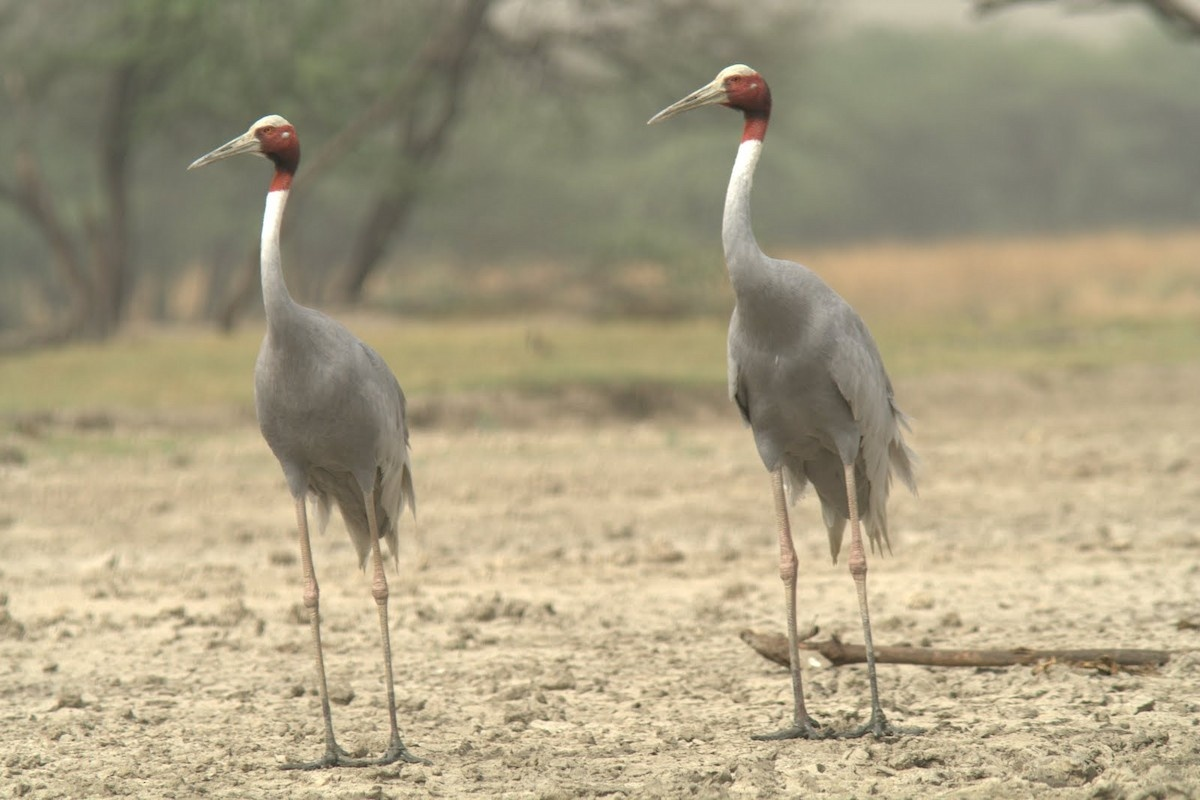crane: (640, 53, 955, 746), (180, 110, 479, 766)
